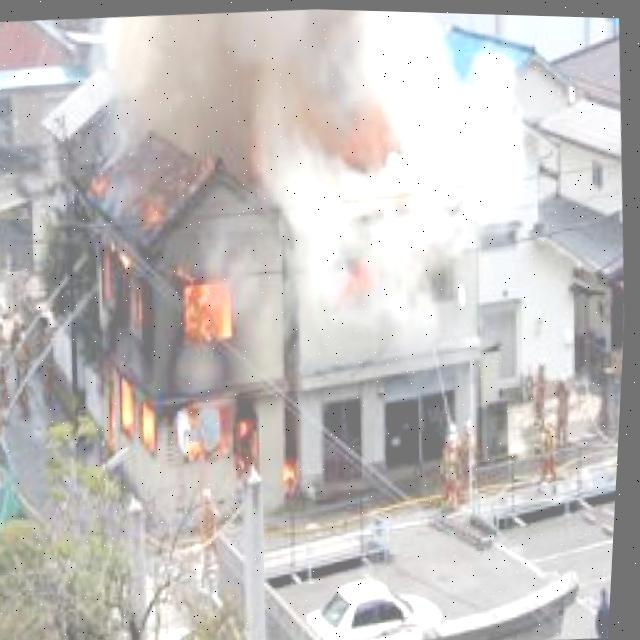Fire: (55, 158, 321, 521)
Smoke: (276, 7, 559, 355), (99, 4, 301, 174)
